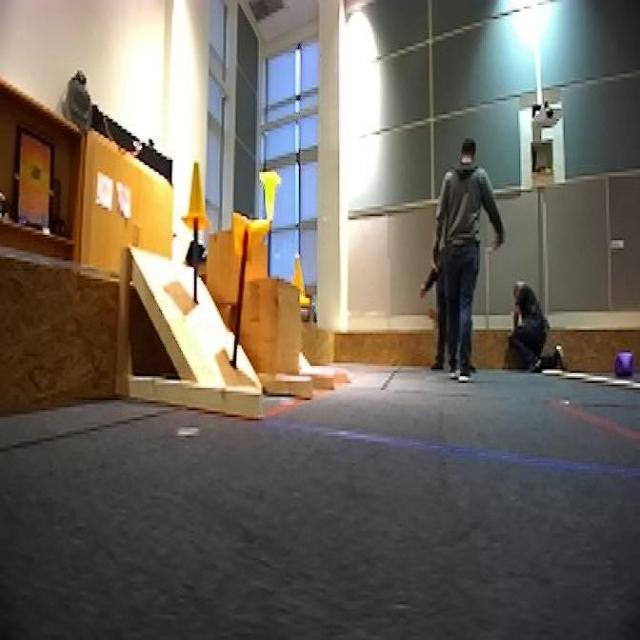frc_cone: (181, 160, 212, 233), (232, 211, 270, 259), (259, 170, 282, 223), (288, 252, 310, 306)
frc_cube: (614, 349, 634, 380)
